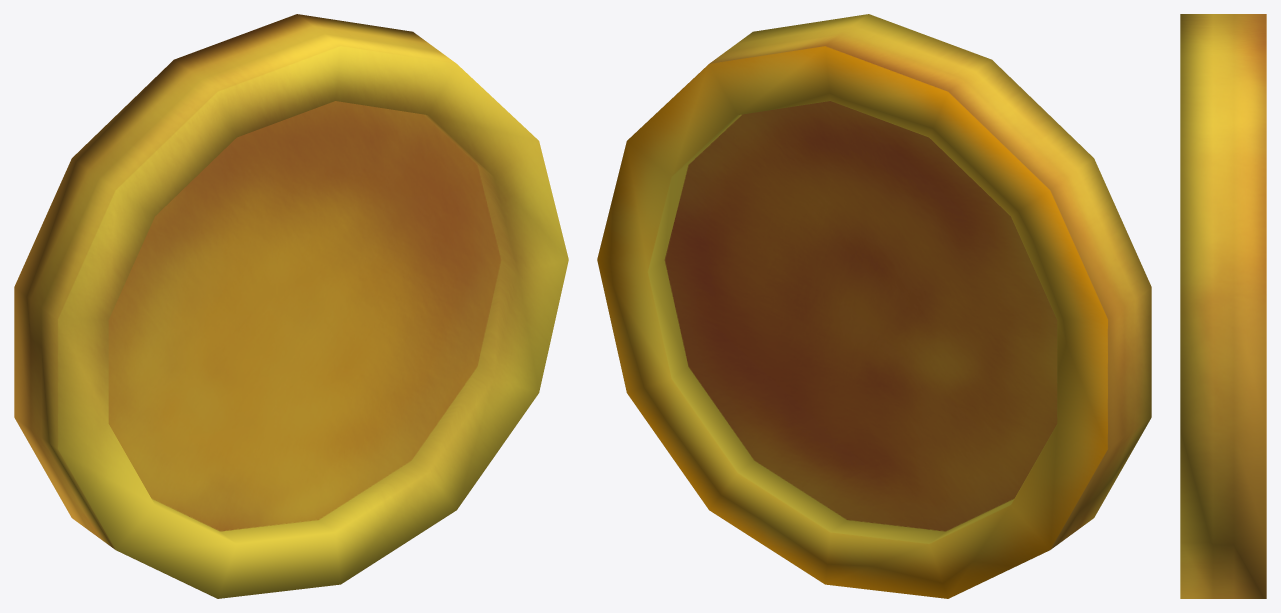
File: coin4.fbx
3 renders of one model, left to right at view 1: azimuth 30°, elevation 25°; view 2: azimuth 150°, elevation 25°; view 3: azimuth 270°, elevation 25°, orthographic.
Visible parts, largest first — view 1: pCylinder1; view 2: pCylinder1; view 3: pCylinder1.
Boxes of the visible parts, box(x1,y1,x2,y2) form: pCylinder1: box(14, 14, 568, 598); pCylinder1: box(597, 14, 1151, 598); pCylinder1: box(1180, 14, 1266, 598).
Bounding box in the file's own units: 0.5729 × 0.5771 × 0.0852.
1 material, 1 textured.
